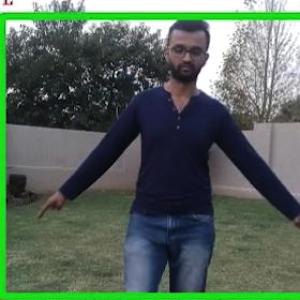land: (32, 25, 299, 299)
